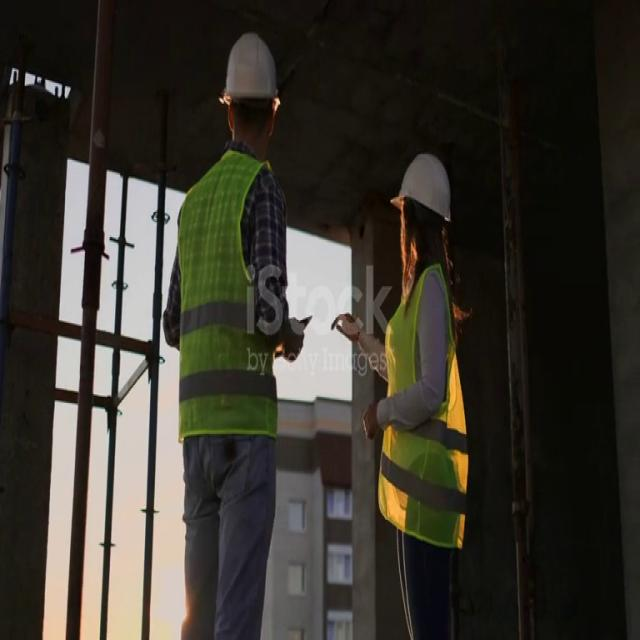capacete: (217, 26, 294, 116), (386, 137, 456, 232)
